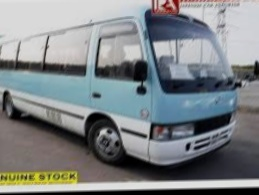bus: (0, 7, 241, 173)
